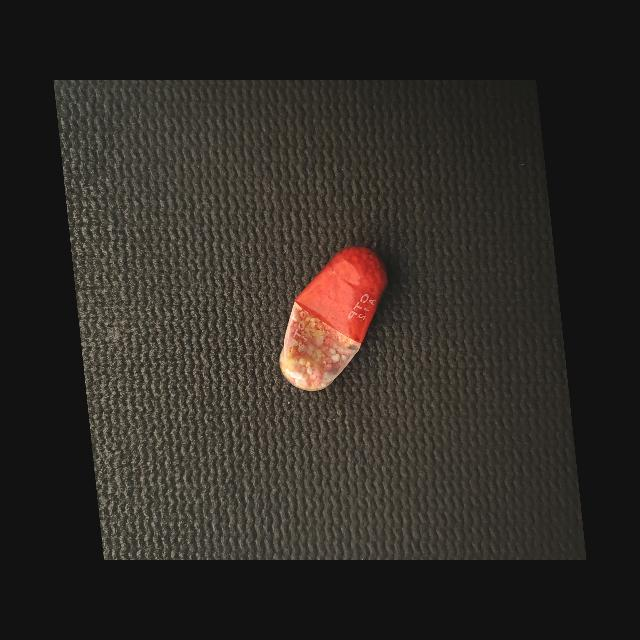Defective Capsule: (279, 247, 388, 391)
